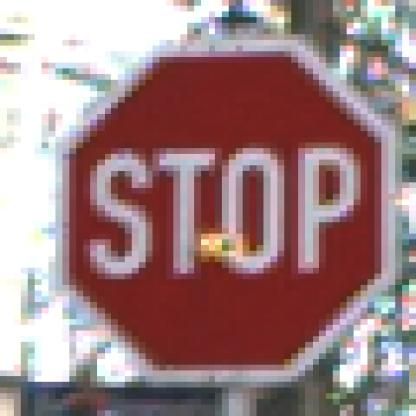Stop: (61, 51, 386, 376)
